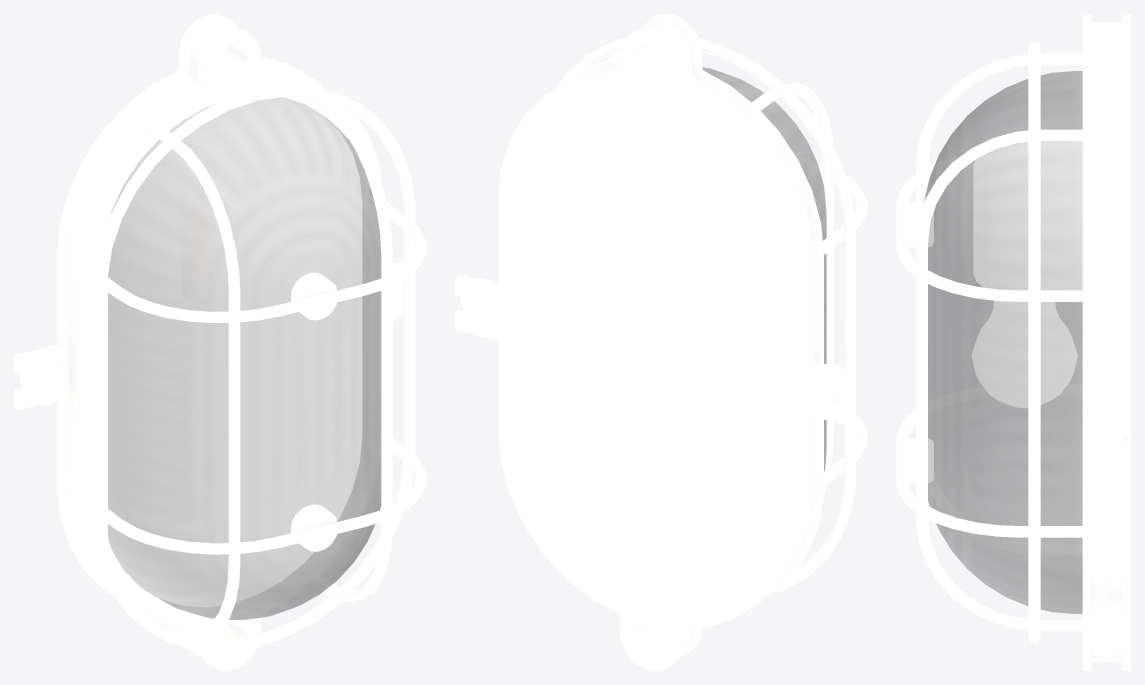
File: industrial_wall_lamp.glb
3 renders of one model, left to right at view 1: azimuth 30°, elevation 25°; view 2: azimuth 150°, elevation 25°; view 3: azimuth 270°, elevation 25°, orthographic.
Parts seen in each view (by area): view 1: industrial_wall_lamp; view 2: industrial_wall_lamp; view 3: industrial_wall_lamp.
Part boxes in pixels (x1=…): industrial_wall_lamp: x1=14, y1=14, x2=426, y2=670; industrial_wall_lamp: x1=455, y1=14, x2=867, y2=670; industrial_wall_lamp: x1=896, y1=14, x2=1130, y2=670.
Size of the model in its own units: 0.2734 by 0.4299 by 0.1404.
2 materials, 2 textured.
